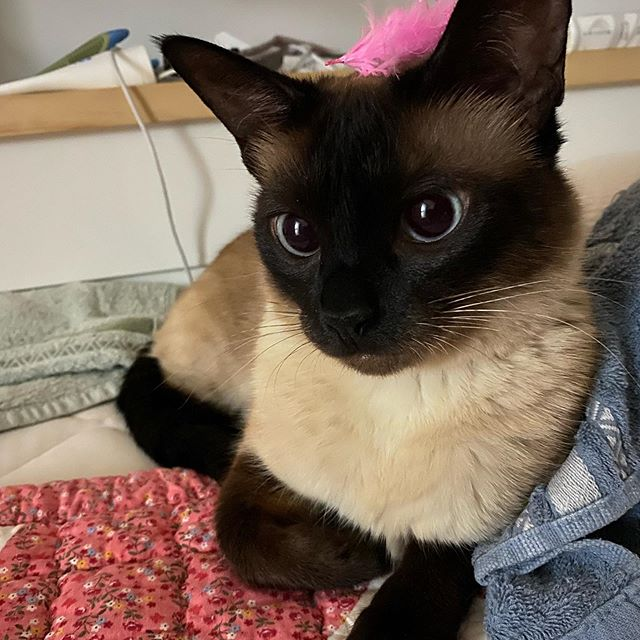cat: (158, 1, 581, 383)
